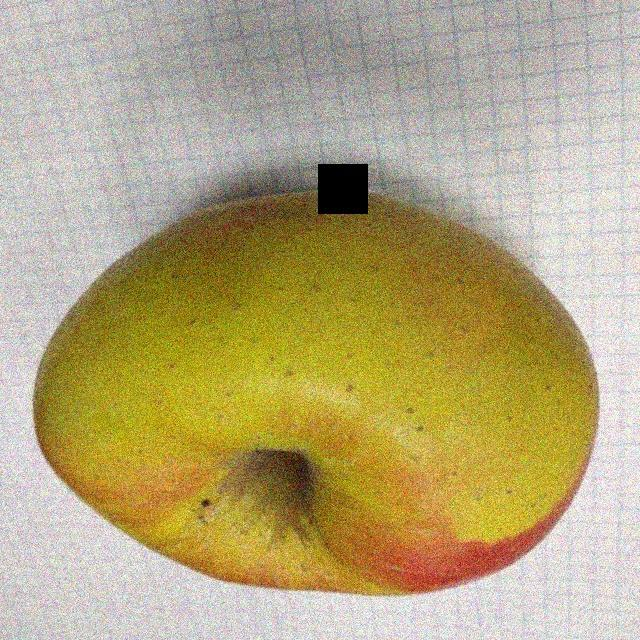green apple: (47, 171, 608, 598)
